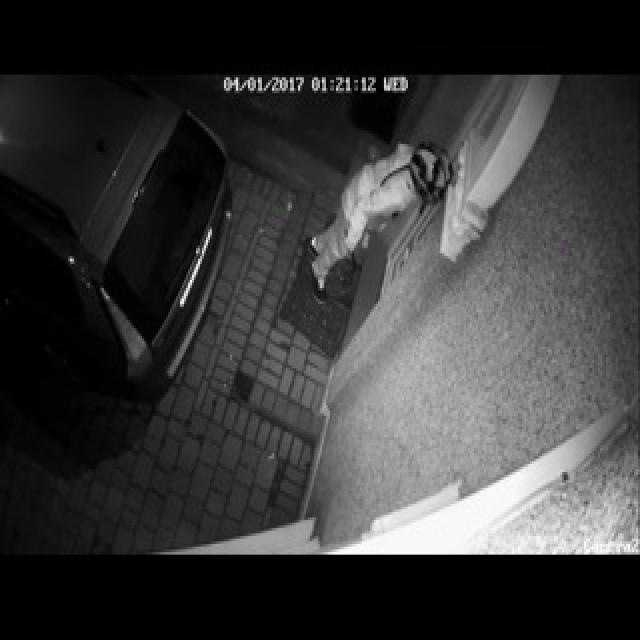thief: (337, 111, 439, 276)
